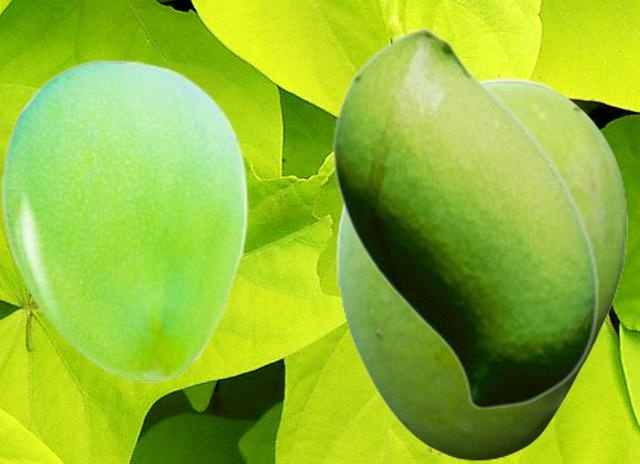green_mango: (335, 77, 626, 460), (331, 26, 597, 409), (0, 59, 247, 381)
